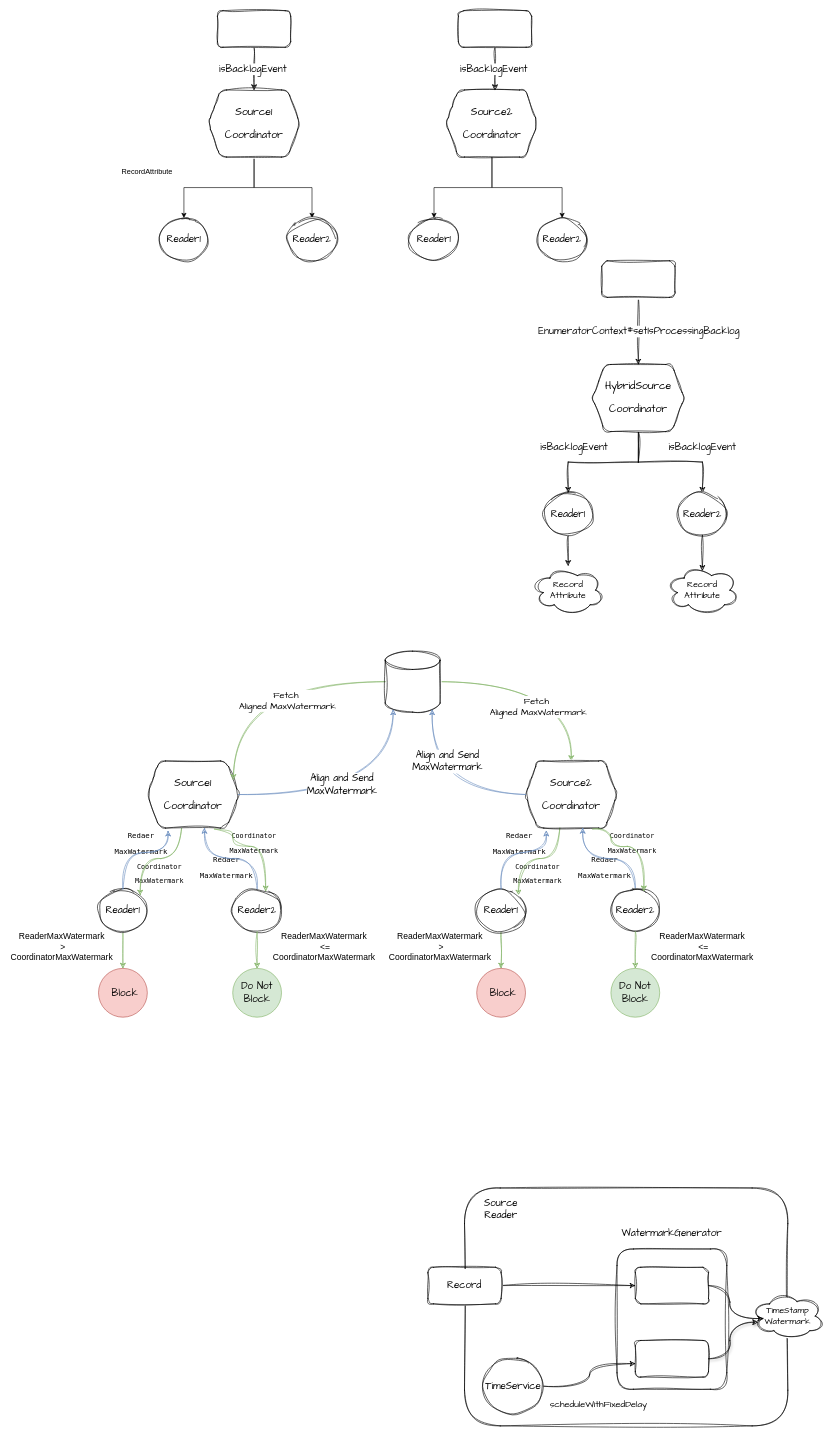
This 835x1437 diagram has some shape labels left out. Each missing label, with the centre of its shape:
"Coordinator Store" goes at [412,681].
"HybridSource Enumerator" goes at [638,278].
"OnRecord(record)" goes at [672,1285].
"OnTimer()" goes at [672,1358].
"Source1 Enumerator" goes at [254,28].
"Source2 Enumerator" goes at [495,28].
